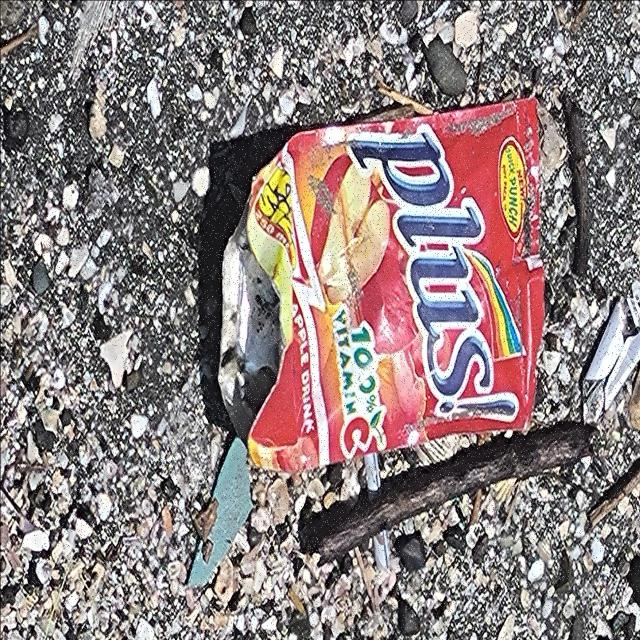plastic_waste: (218, 93, 549, 481)
